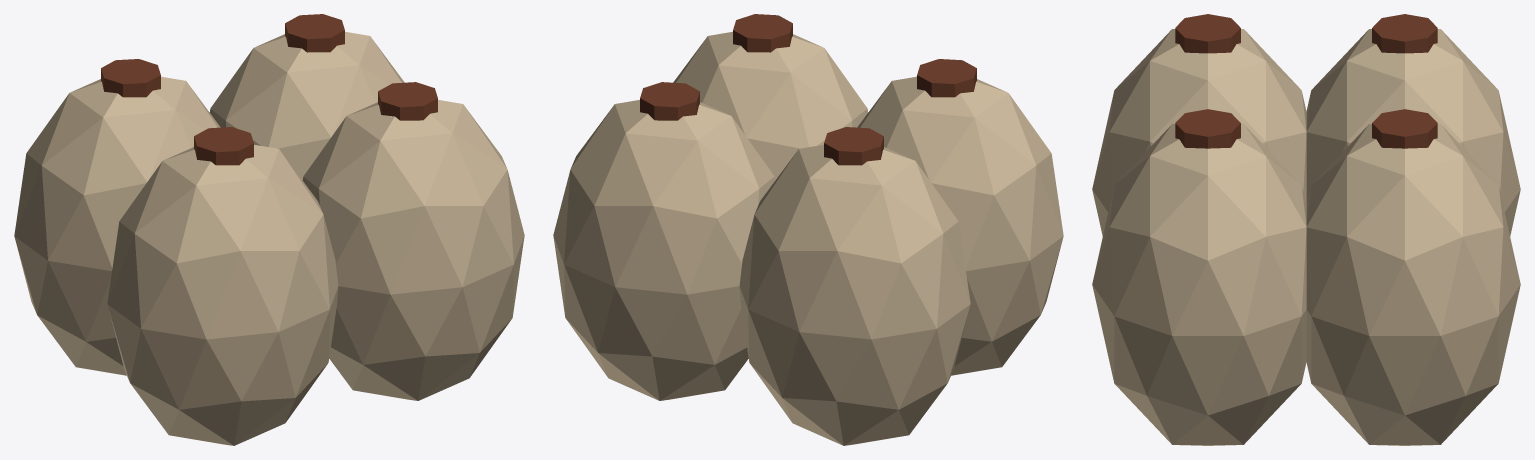
Rendered from grain_sacks.glb.
The picture shows the model from 3 angles, left to right: view 1: azimuth 30°, elevation 25°; view 2: azimuth 150°, elevation 25°; view 3: azimuth 270°, elevation 25°; orthographic projection. The views are drawn at different scales.
Visible parts, largest first — view 1: Sack, Sack_001, Sack_002, Sack_003, Tie, Tie_001, Tie_002, Tie_003; view 2: Sack_002, Sack_003, Sack, Sack_001, Tie_002, Tie, Tie_001, Tie_003; view 3: Sack_001, Sack_003, Sack, Sack_002, Tie_001, Tie_003, Tie, Tie_002.
Part boxes in pixels (bbox=[...]): Sack: bbox=[107, 144, 338, 445]; Sack_001: bbox=[302, 100, 524, 400]; Sack_002: bbox=[14, 76, 220, 375]; Sack_003: bbox=[209, 31, 404, 179]; Tie: bbox=[194, 127, 253, 165]; Tie_001: bbox=[378, 82, 437, 120]; Tie_002: bbox=[101, 59, 160, 97]; Tie_003: bbox=[285, 14, 344, 52]; Sack_002: bbox=[739, 144, 970, 445]; Sack_003: bbox=[553, 100, 775, 400]; Sack: bbox=[857, 76, 1063, 375]; Sack_001: bbox=[673, 31, 868, 179]; Tie_002: bbox=[824, 127, 883, 165]; Tie: bbox=[917, 59, 976, 97]; Tie_001: bbox=[733, 14, 792, 52]; Tie_003: bbox=[640, 82, 699, 120]; Sack_001: bbox=[1092, 124, 1306, 445]; Sack_003: bbox=[1306, 124, 1520, 445]; Sack: bbox=[1092, 29, 1306, 236]; Sack_002: bbox=[1306, 29, 1520, 236]; Tie_001: bbox=[1175, 109, 1240, 148]; Tie_003: bbox=[1372, 109, 1437, 148]; Tie: bbox=[1175, 14, 1240, 53]; Tie_002: bbox=[1372, 14, 1437, 53].
Size of the model in its own units: 1 by 0.76 by 0.914.
